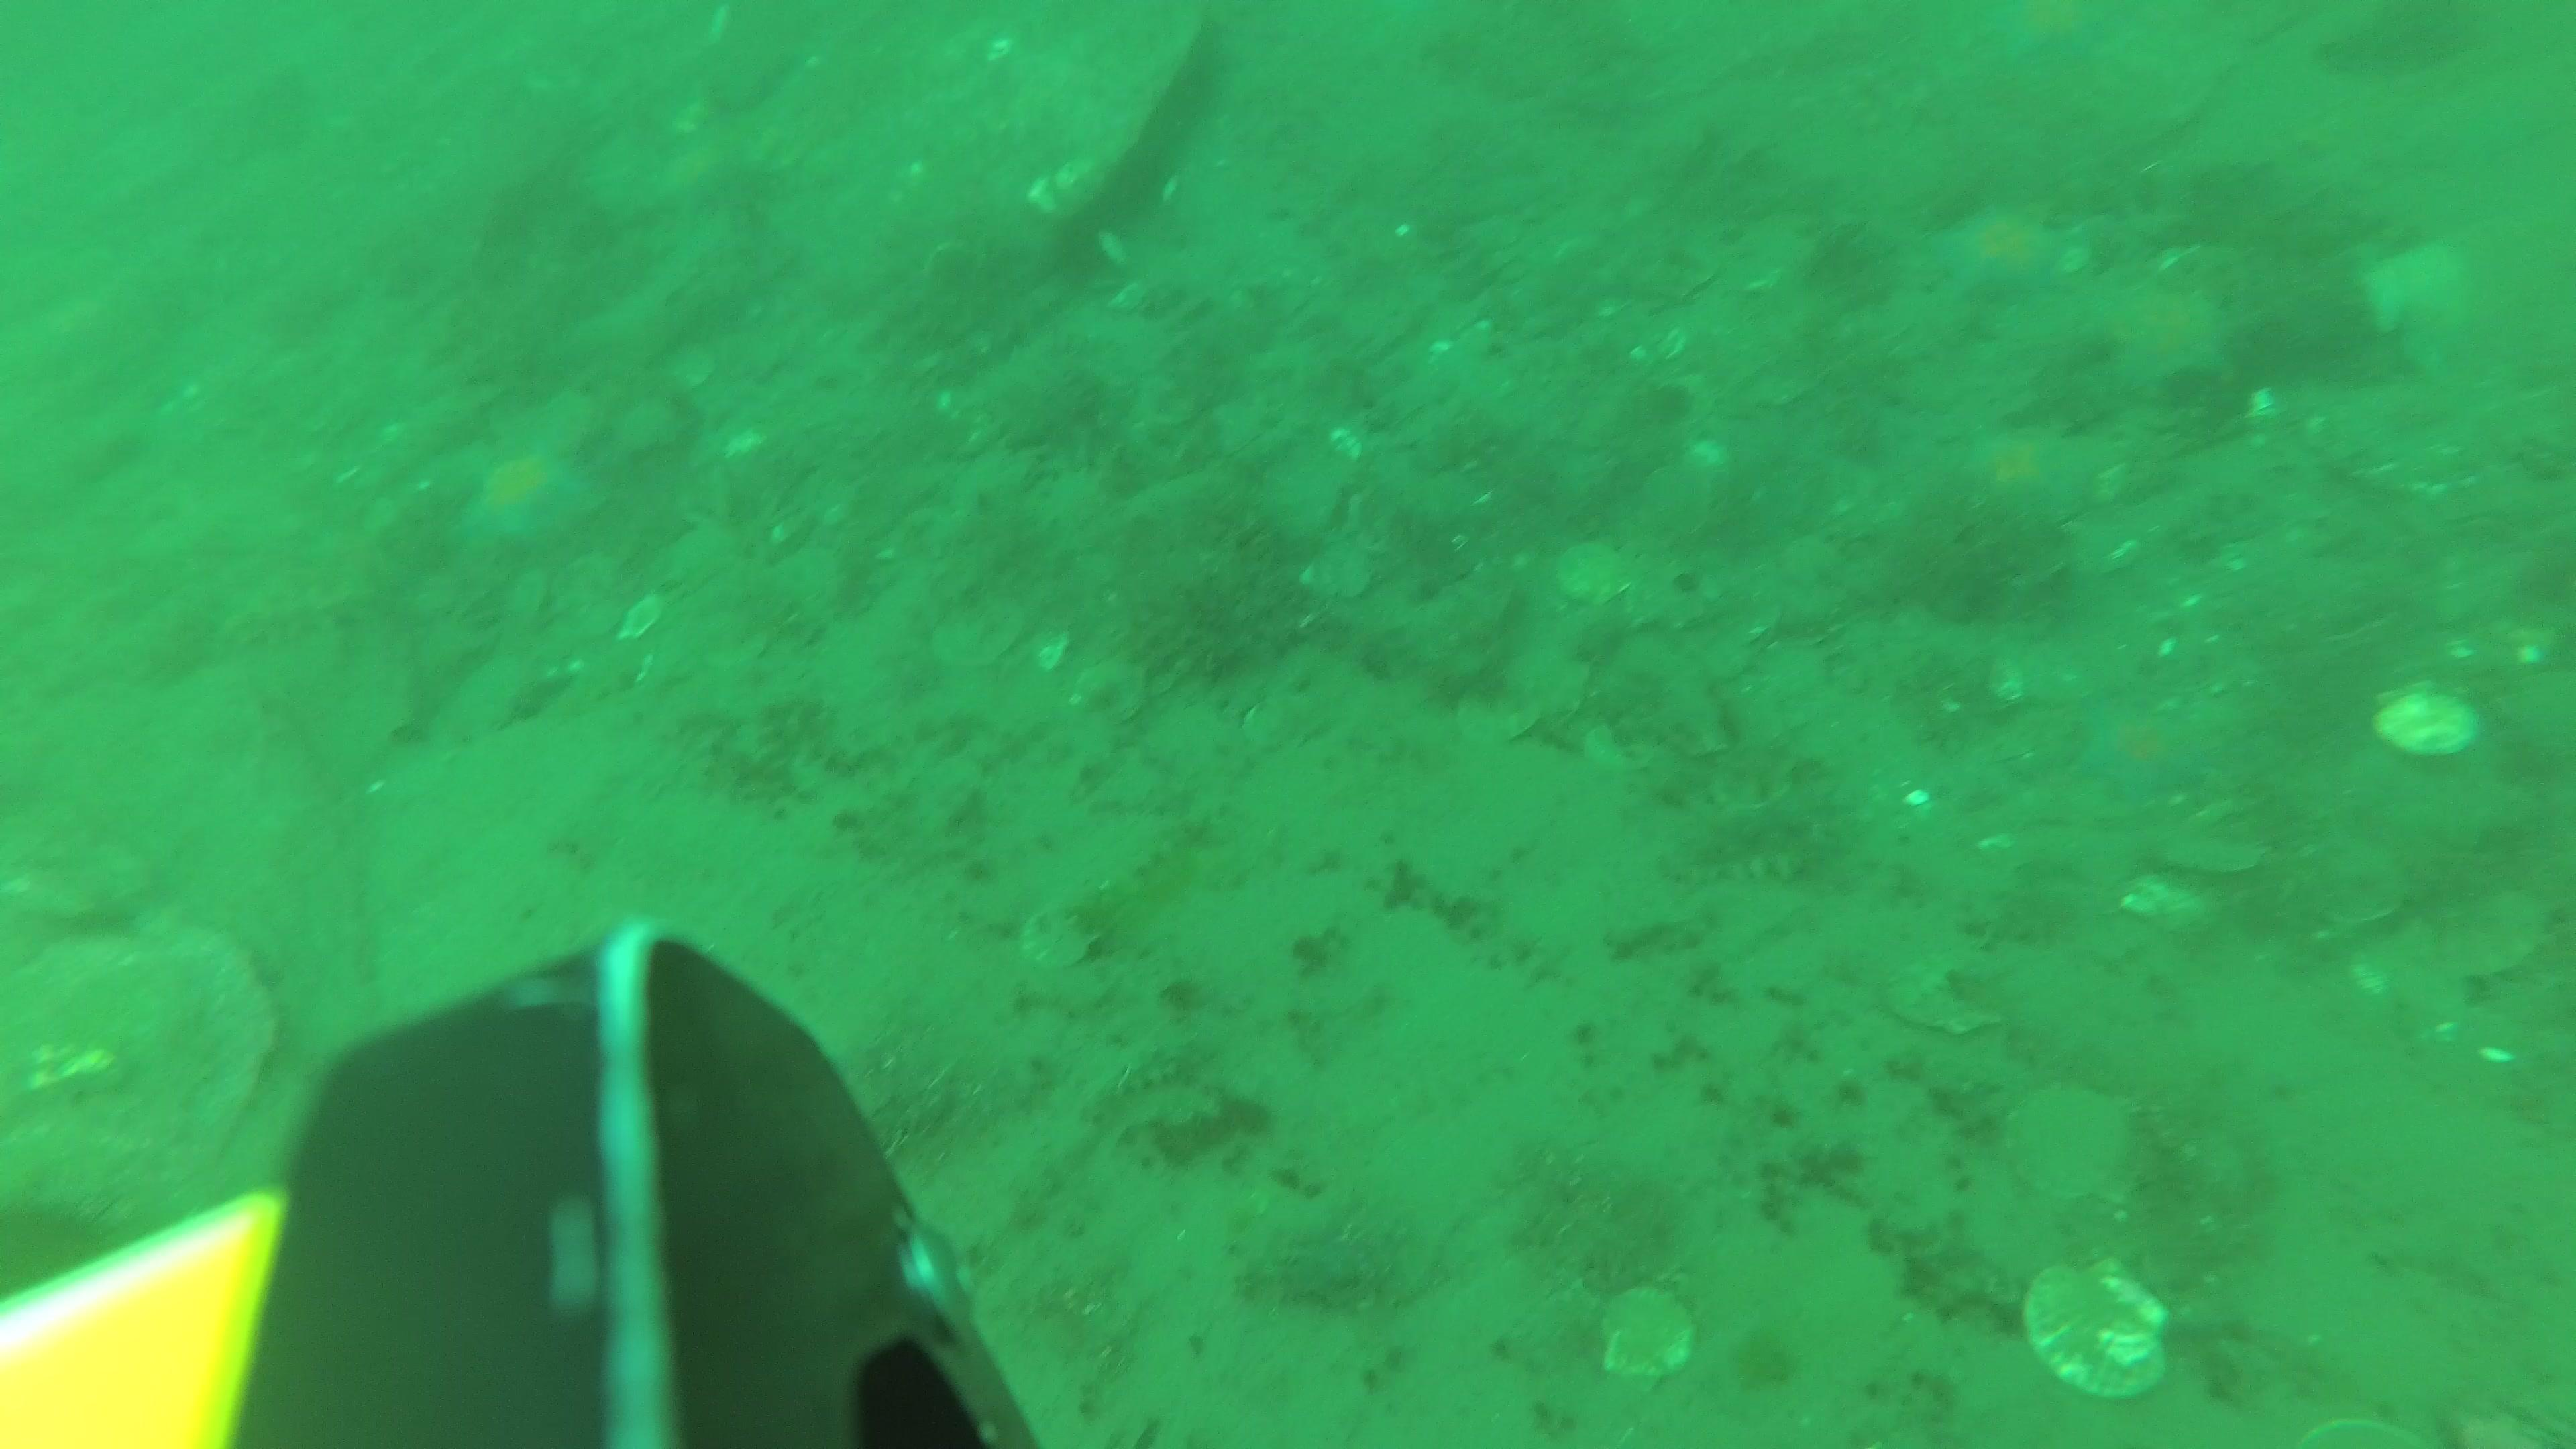holothurian: (1658, 782, 1845, 881)
scallop: (2029, 1253, 2173, 1399), (2006, 1083, 2132, 1205), (1596, 1281, 1695, 1389), (1897, 945, 2005, 1037), (2373, 676, 2480, 761), (1024, 904, 1108, 973), (1552, 538, 1626, 603)
starfish: (456, 446, 602, 554), (1969, 421, 2104, 531), (2105, 290, 2238, 395), (2369, 241, 2491, 341), (2084, 711, 2206, 805), (1943, 203, 2065, 295)
